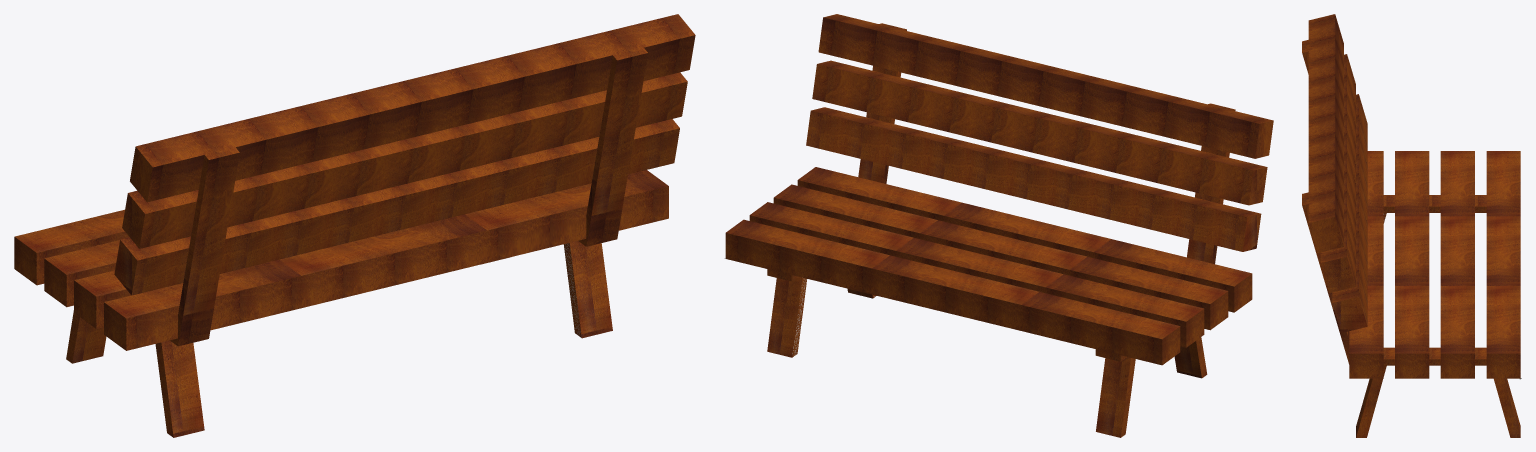
The picture shows the model from 3 angles, left to right: view 1: azimuth 30°, elevation 25°; view 2: azimuth 150°, elevation 25°; view 3: azimuth 270°, elevation 25°; orthographic projection. The views are drawn at different scales.
Visible parts, largest first — view 1: mesh1_mesh1-geometry, mesh4_mesh4-geometry, mesh2_mesh2-geometry, mesh3_mesh3-geometry; view 2: mesh1_mesh1-geometry, mesh4_mesh4-geometry, mesh2_mesh2-geometry, mesh3_mesh3-geometry; view 3: mesh1_mesh1-geometry, mesh2_mesh2-geometry, mesh3_mesh3-geometry, mesh4_mesh4-geometry.
Boxes of the visible parts, x1=… form: mesh1_mesh1-geometry: x1=14, y1=14, x2=695, y2=437; mesh4_mesh4-geometry: x1=122, y1=72, x2=687, y2=248; mesh2_mesh2-geometry: x1=44, y1=240, x2=119, y2=307; mesh3_mesh3-geometry: x1=74, y1=270, x2=131, y2=328; mesh1_mesh1-geometry: x1=725, y1=14, x2=1273, y2=437; mesh4_mesh4-geometry: x1=812, y1=60, x2=1267, y2=205; mesh2_mesh2-geometry: x1=749, y1=202, x2=1204, y2=347; mesh3_mesh3-geometry: x1=773, y1=184, x2=1228, y2=330; mesh1_mesh1-geometry: x1=1302, y1=14, x2=1520, y2=437; mesh2_mesh2-geometry: x1=1440, y1=151, x2=1474, y2=378; mesh3_mesh3-geometry: x1=1395, y1=151, x2=1429, y2=378; mesh4_mesh4-geometry: x1=1320, y1=54, x2=1355, y2=292.
Bounding box in the file's own units: 0.813 × 0.4484 × 0.3713.
